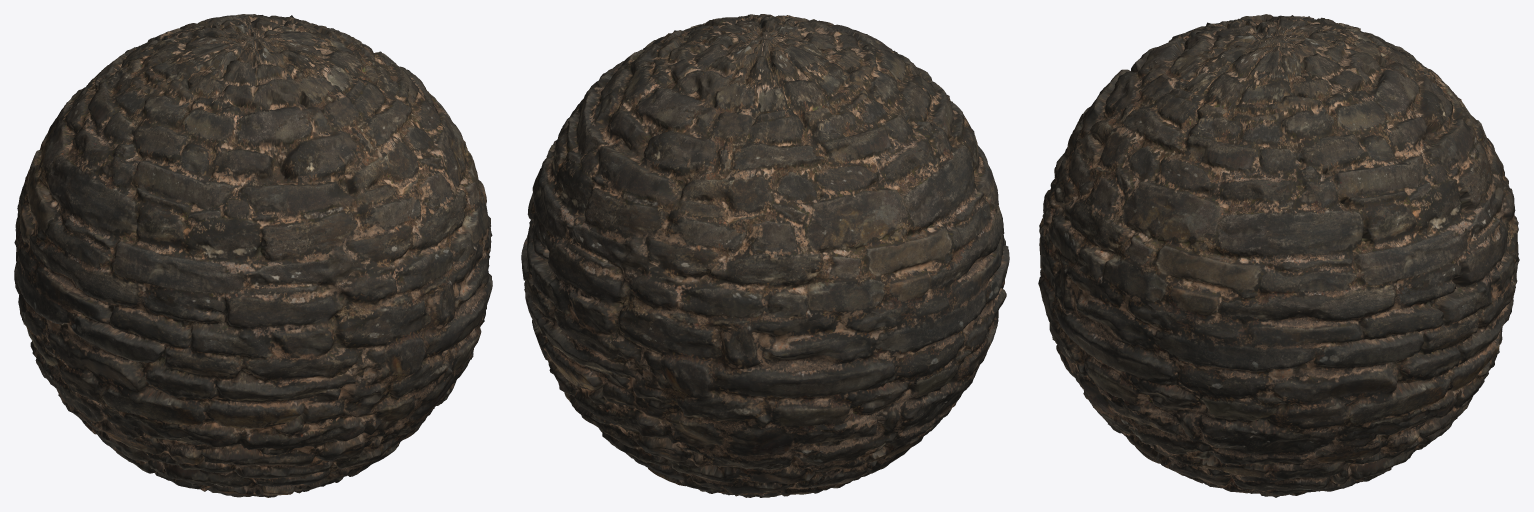
File: rabdentse_ruins_wall_4k.gltf
The picture shows the model from 3 angles, left to right: view 1: azimuth 30°, elevation 25°; view 2: azimuth 150°, elevation 25°; view 3: azimuth 270°, elevation 25°; orthographic projection.
Parts seen in each view (by area): view 1: sphere_gltf; view 2: sphere_gltf; view 3: sphere_gltf.
Boxes of the visible parts, x1,y1,x2,y2 form: sphere_gltf: (14,14,492,497); sphere_gltf: (521,14,1009,497); sphere_gltf: (1038,14,1519,497).
Size of the model in its own units: 2.1 by 2.11 by 2.1.
Materials: 1 (1 with a texture image).
